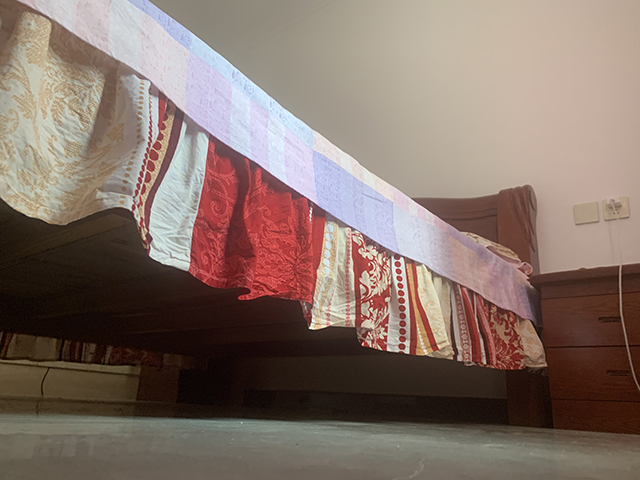bed: (1, 1, 551, 429)
cabinet: (526, 261, 640, 436)
